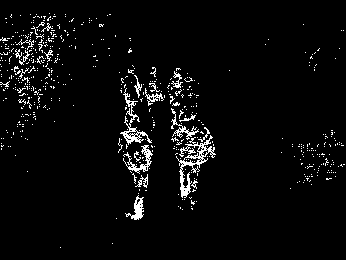person: (171, 110, 217, 210), (118, 114, 154, 220), (120, 65, 142, 129), (144, 65, 166, 114), (167, 66, 182, 117), (184, 72, 201, 116)
